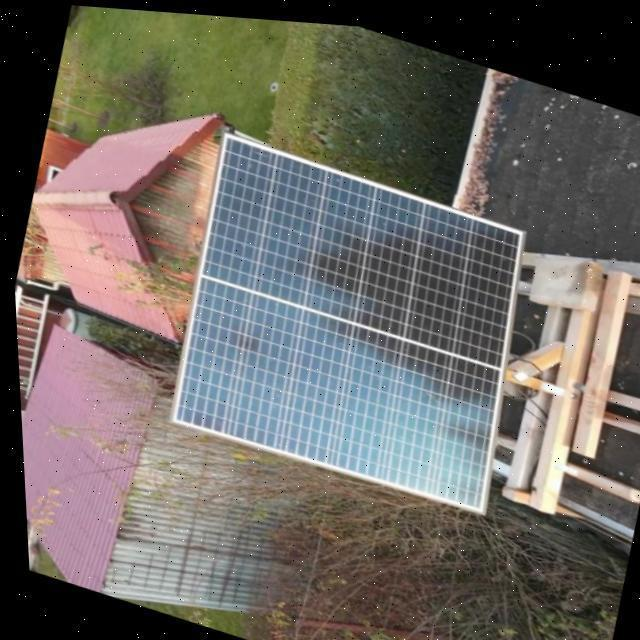Normal Solar Panel: (150, 126, 547, 514)
